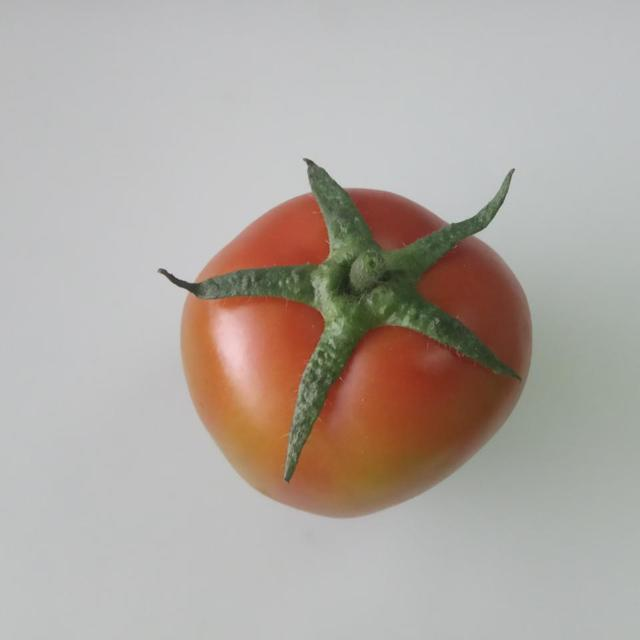Healthy Fruit: (121, 122, 357, 347)
